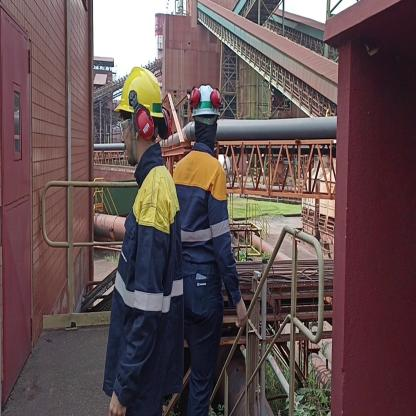Balaclava: (195, 119, 215, 144)
C_eletrica: (113, 176, 182, 407)
Capacete: (115, 64, 161, 112), (190, 82, 220, 118)
Operacional: (181, 152, 236, 290)
